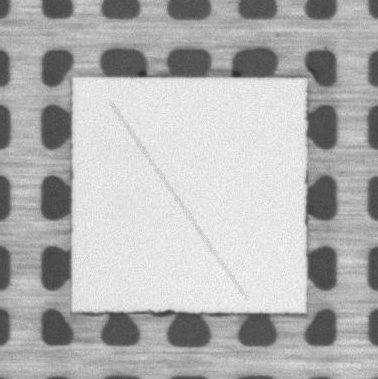DIE_CRACK: (111, 103, 246, 300)
